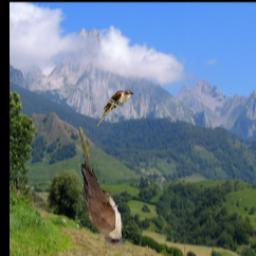Cuckoo: (79, 127, 126, 246), (96, 90, 133, 126)
